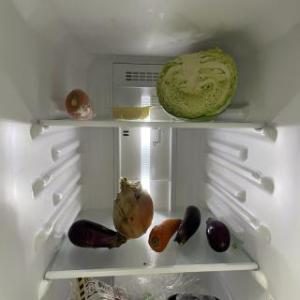cabbage: (156, 49, 236, 124)
carrot: (150, 219, 182, 253), (66, 89, 96, 121)
eggplant: (68, 222, 128, 250), (175, 206, 201, 244), (207, 217, 231, 253)
onion: (115, 178, 155, 240)
